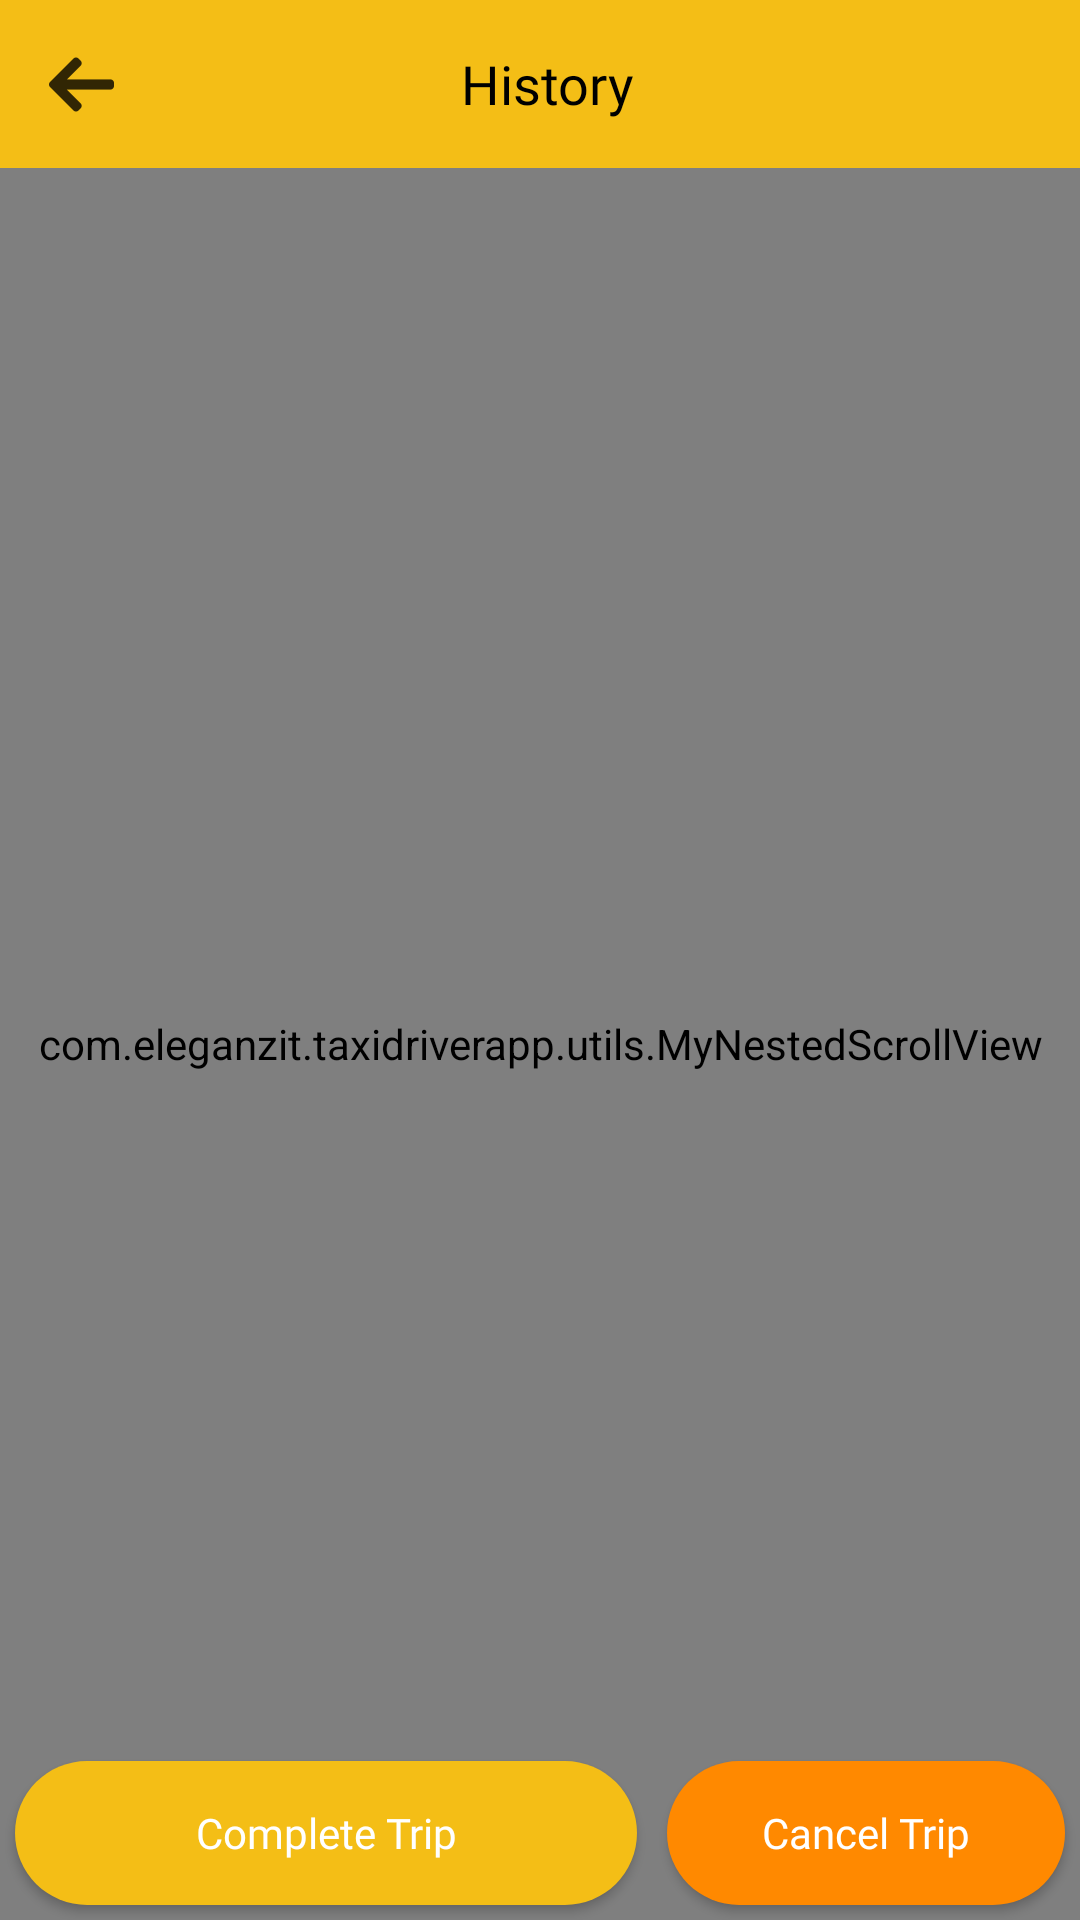

Screen size 1080w x 1920h. Icon name, then its box in pixels as (x1, y1, x2, y2):
back: (49, 57, 114, 112)
